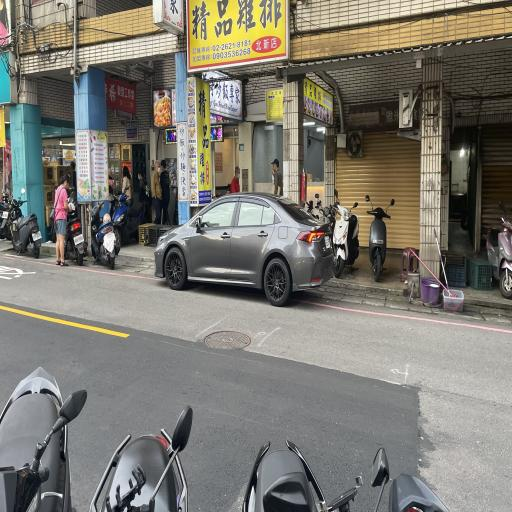MIU: (280, 260, 334, 318), (141, 237, 190, 298)
car: (149, 185, 337, 312)
redline: (298, 284, 512, 342), (1, 242, 167, 289)
